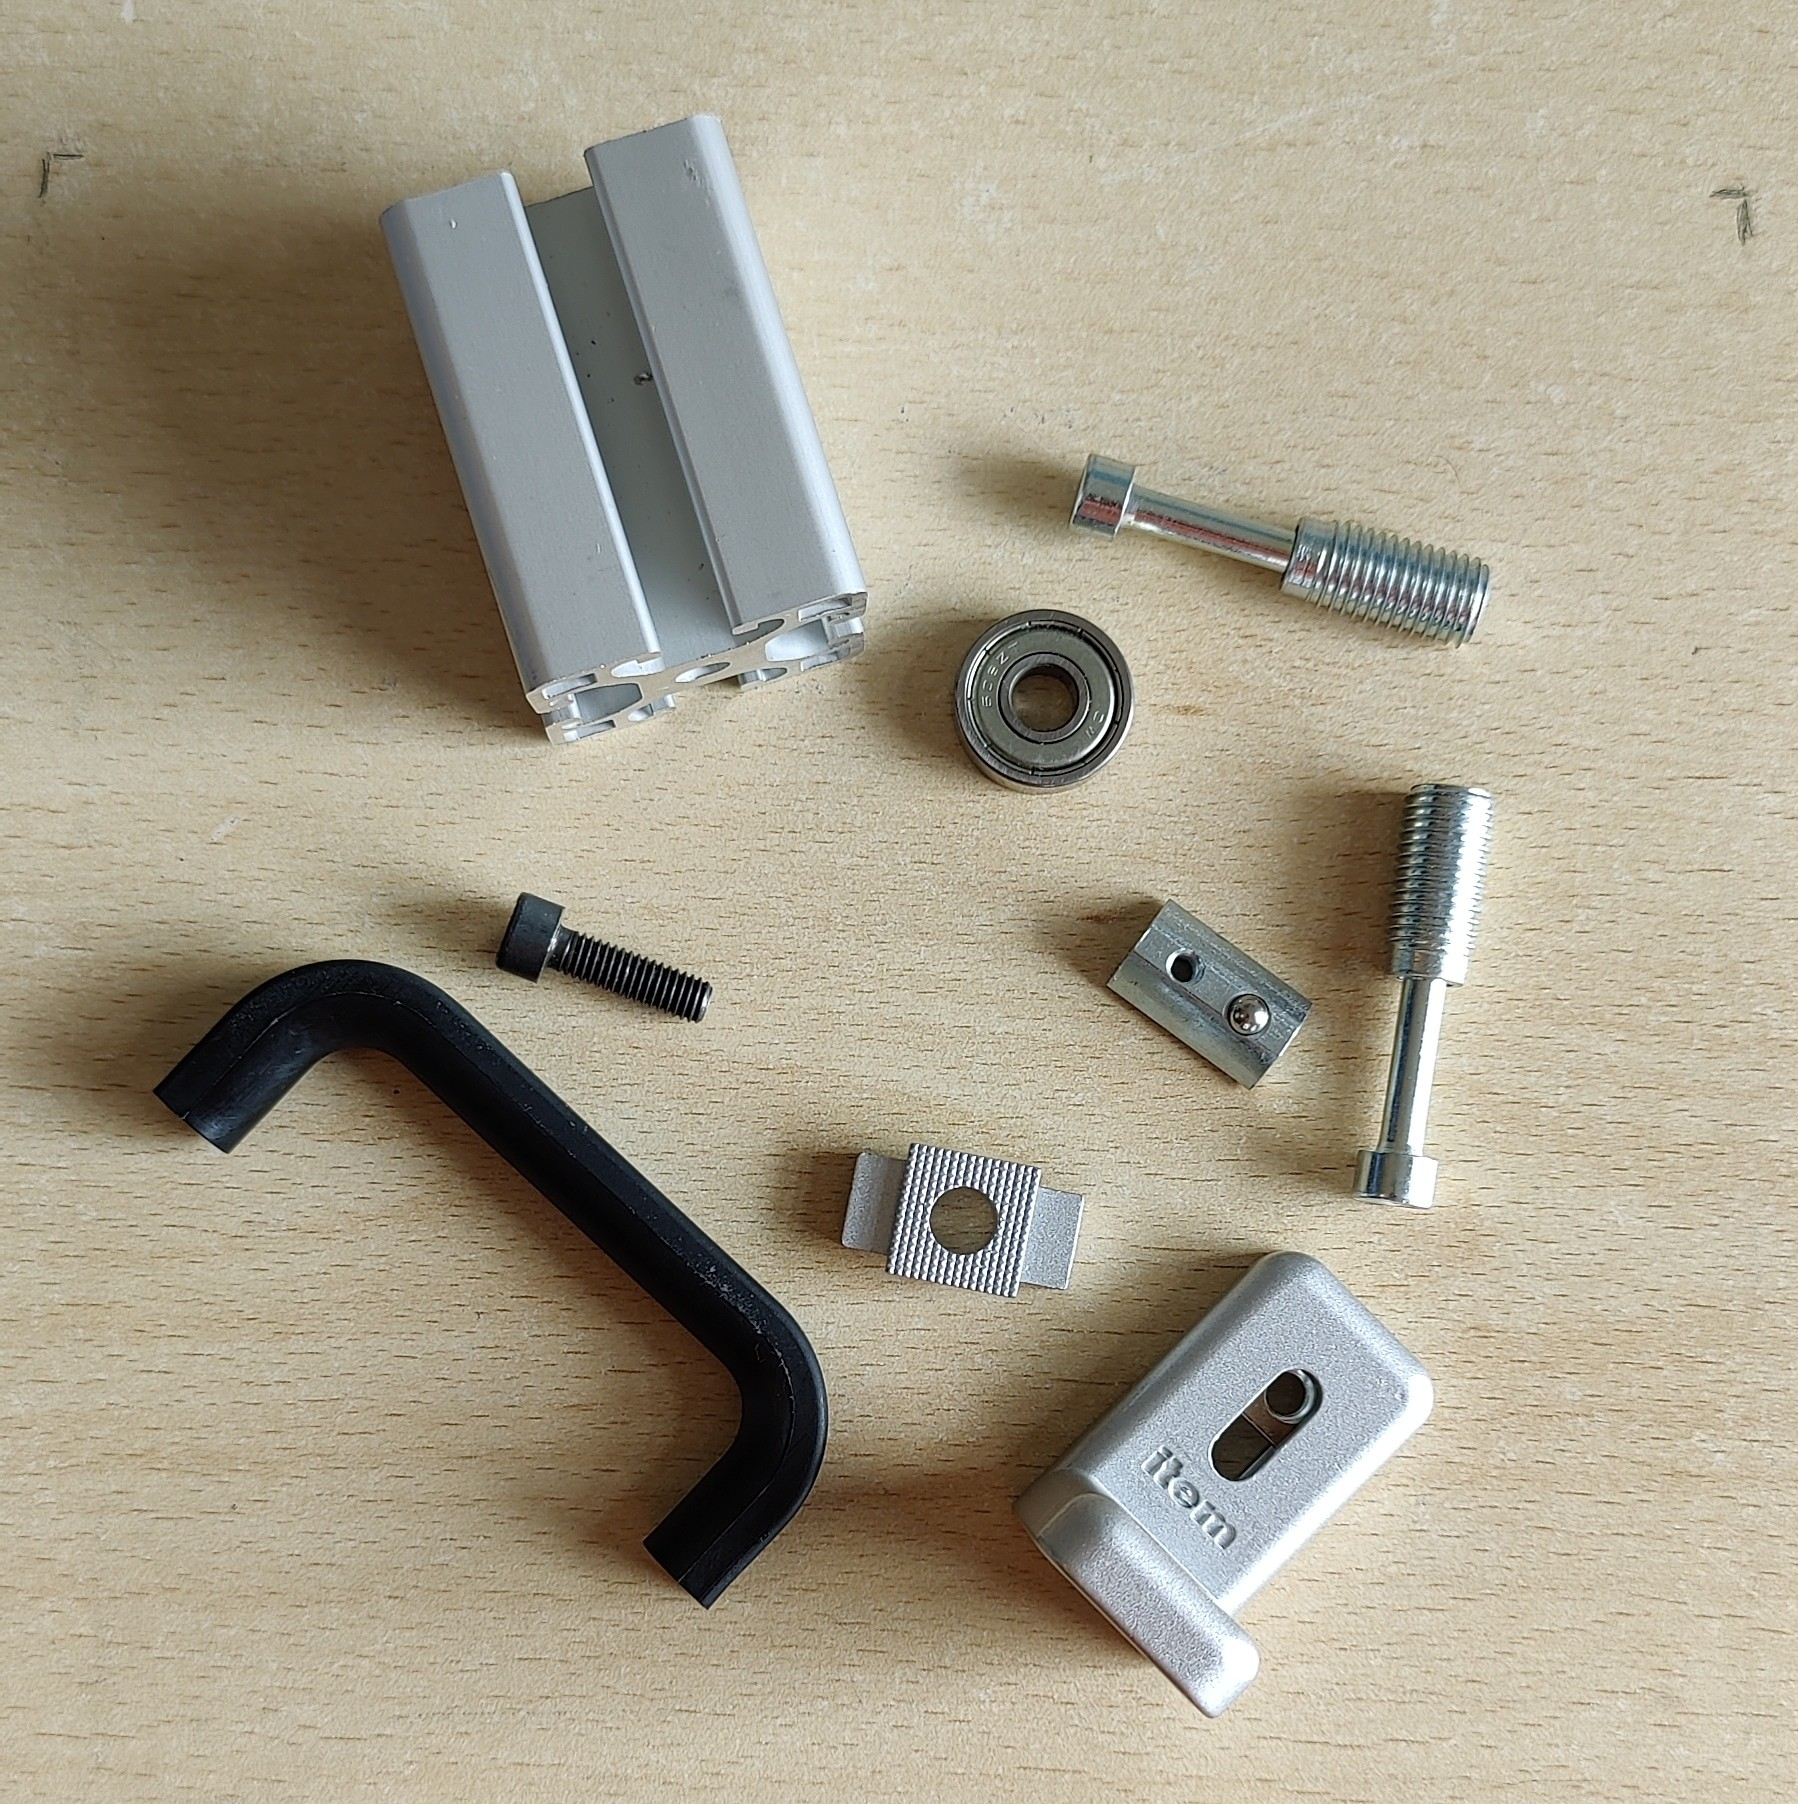Aluminium Extension: (374, 112, 869, 747)
Ball Bearing: (950, 607, 1138, 797)
Multiwinkel: (1009, 1249, 1436, 1722)
Pull Handle: (150, 956, 830, 1611)
Shoulder Socket Head Cap Screw: (1067, 448, 1495, 649), (1352, 779, 1498, 1211)
Socket Head Cap Screw: (491, 887, 716, 1029)
T Nut Square: (835, 1141, 1088, 1300)
T Spring Nut: (1102, 899, 1317, 1093)
